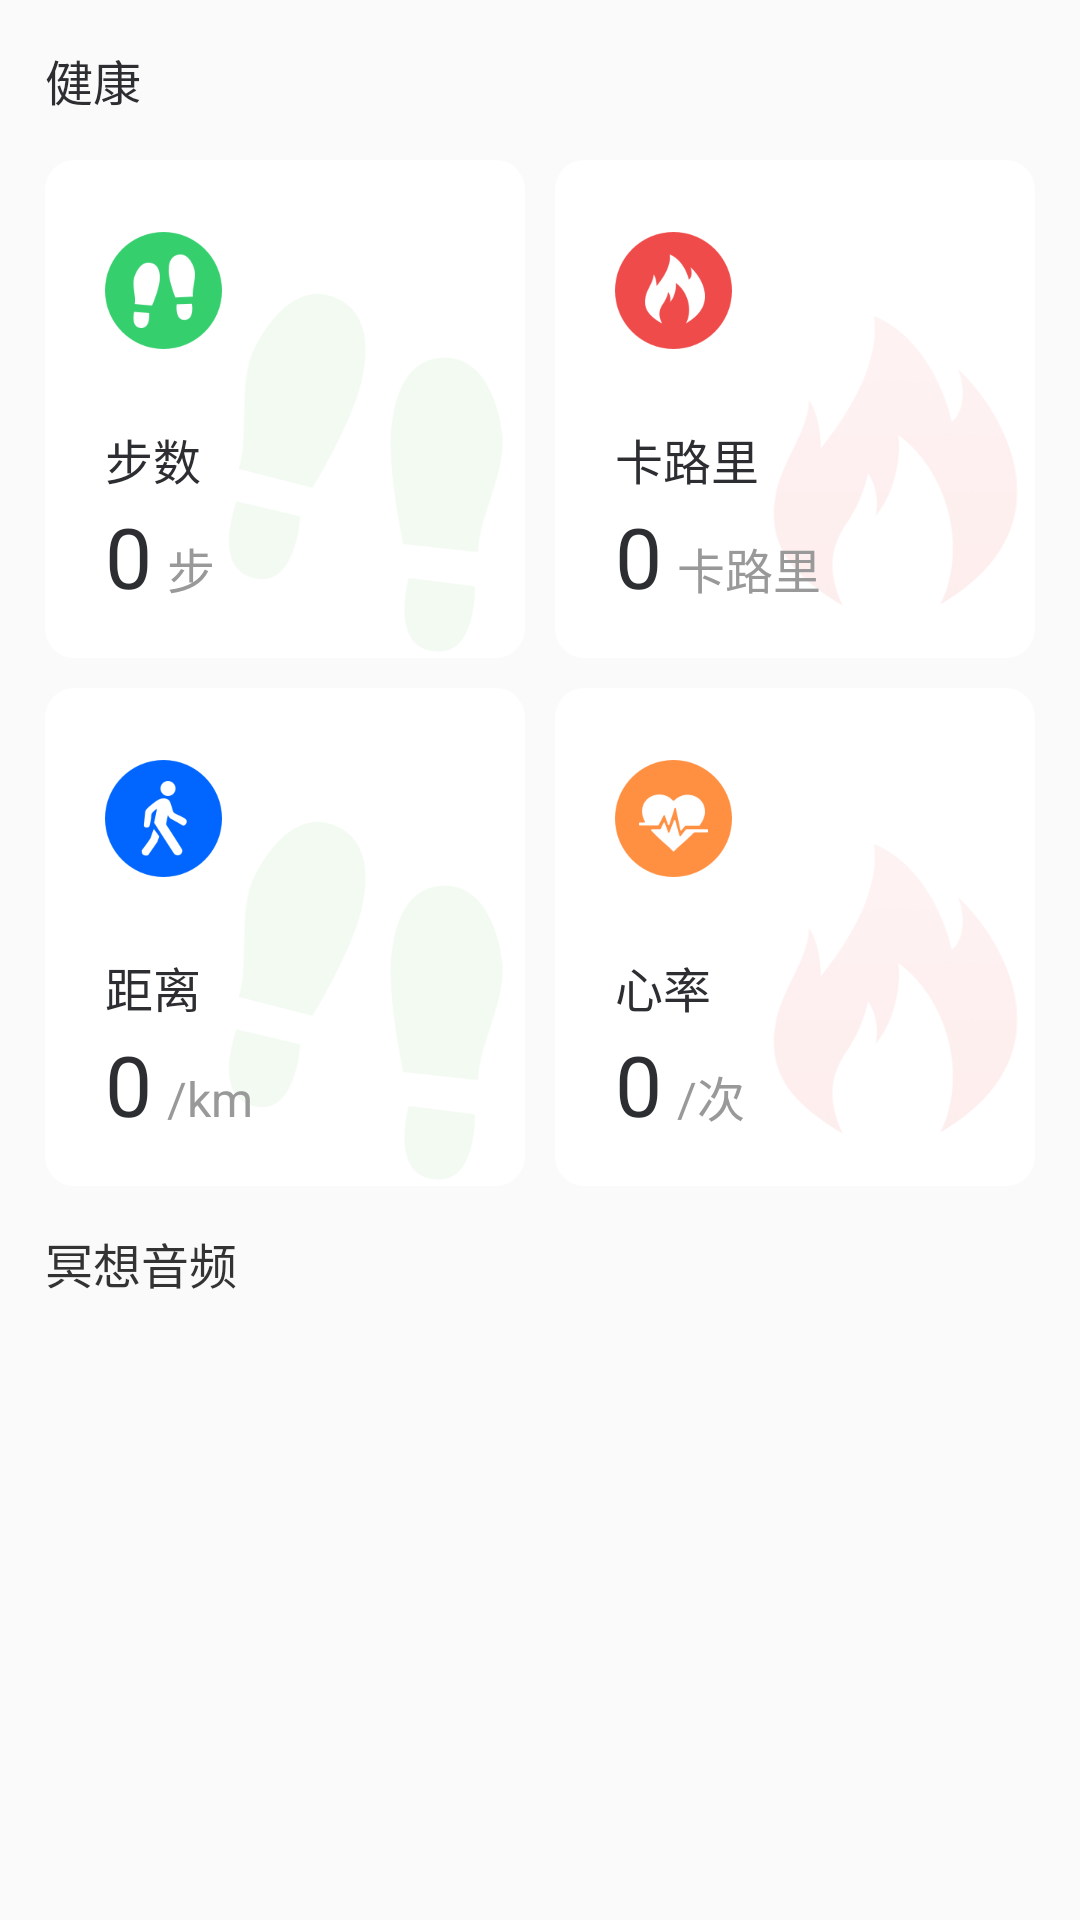

Where icons sit on this 1080px×1920px app screen, as (x1, y1, x2, y2):
cal: (615, 232, 732, 349)
distance: (105, 760, 222, 877)
step: (105, 232, 222, 349)
